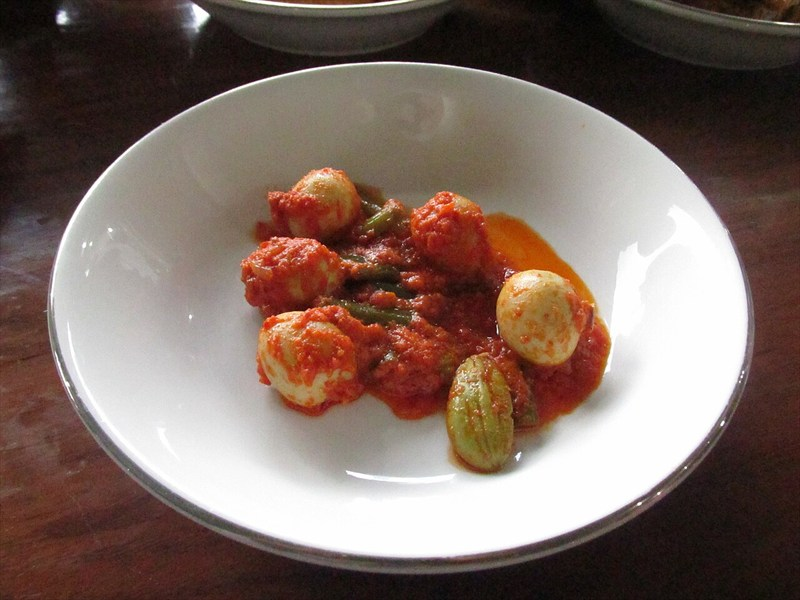Telur Balado: (52, 154, 748, 561)
